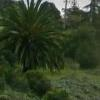Palm tree: (6, 2, 65, 72)
